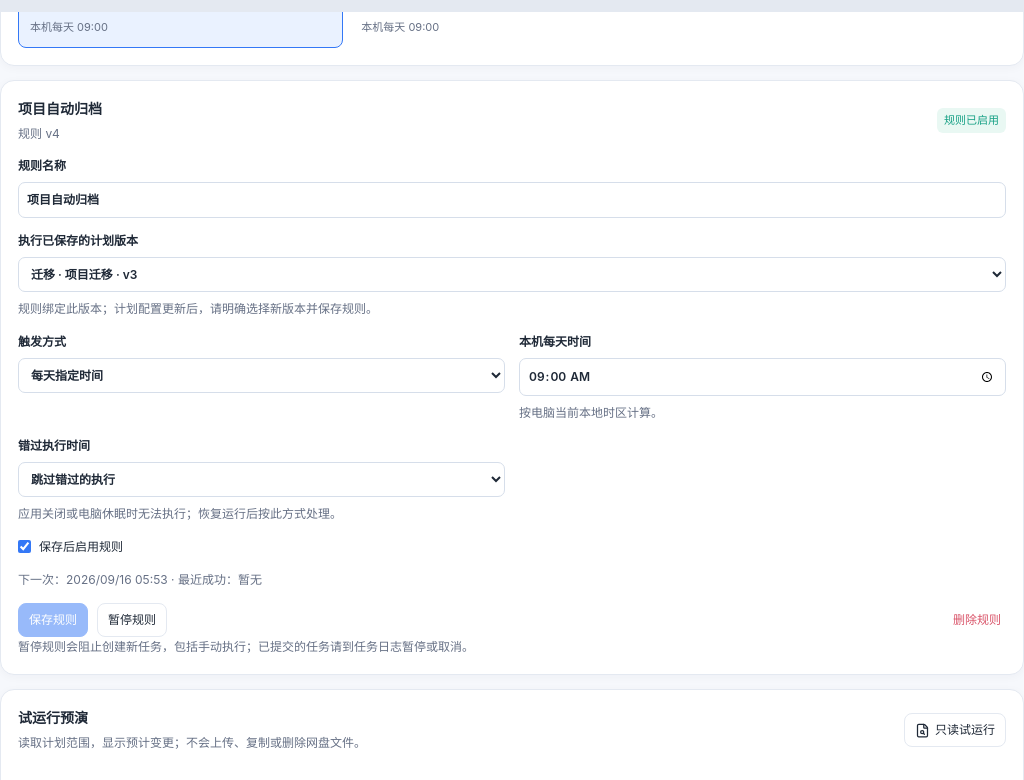
Test: prevents manual execution for a preview requiring review
(page scrolled)
Click the button "只读试运行" at (955, 730), box [904,713,1006,747]
(page scrolled)
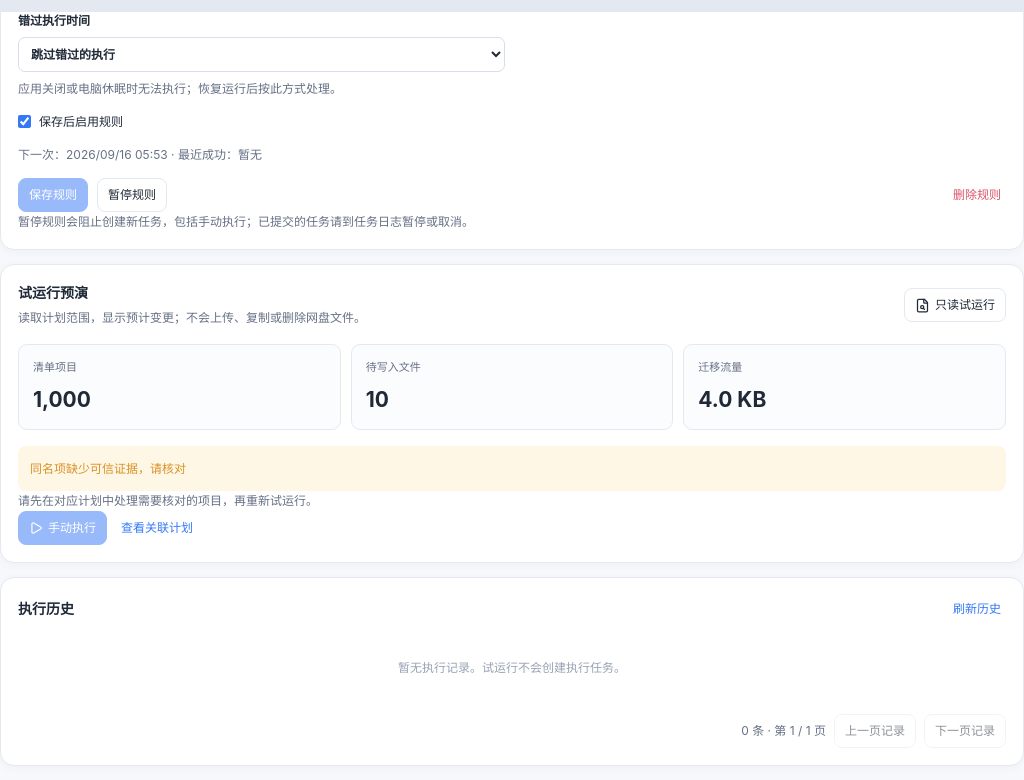
Now the text "同名项缺少可信证据" is shown, box [30,461,186,476]
Now the button "手动执行" is disabled, box [18,511,107,545]
